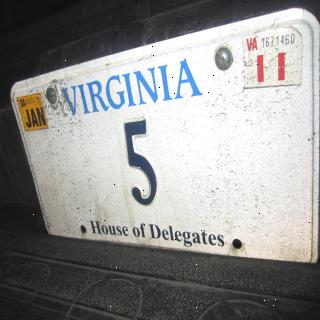license: (10, 9, 320, 238)
